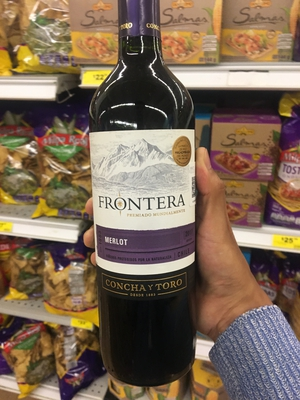frontera merlot: (85, 5, 208, 365)
